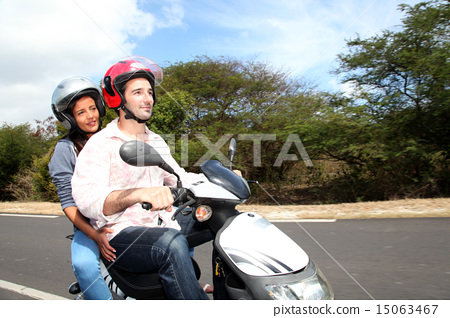helmet: (98, 57, 166, 111), (46, 75, 106, 129)
